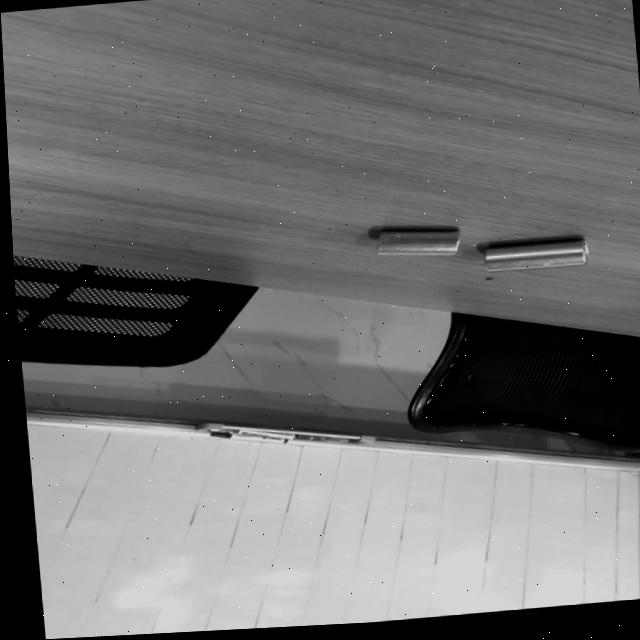Co_Lon: (482, 237, 588, 272)
Co_Nho: (375, 228, 459, 254)
